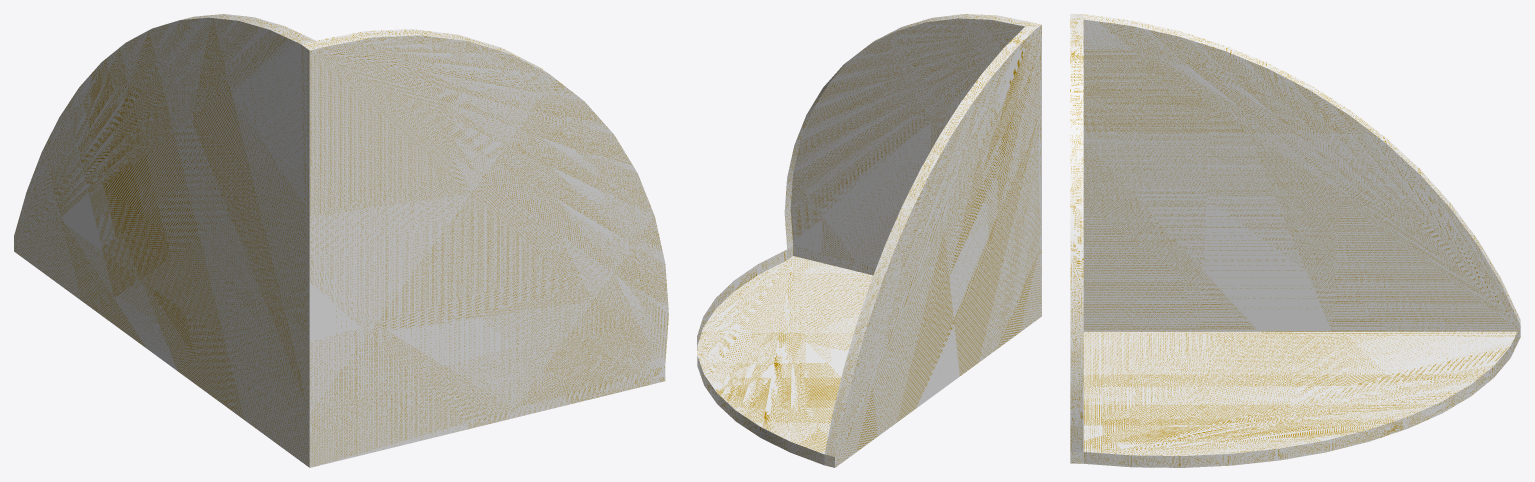
File: original-31.obj
3 renders of one model, left to right at view 1: azimuth 30°, elevation 25°; view 2: azimuth 150°, elevation 25°; view 3: azimuth 270°, elevation 25°, orthographic. The views are drawn at different scales.
Parts seen in each view (by area): view 1: mesh33/mesh33-geometry/material_9/component_0#mesh33-geometry; view 2: mesh33/mesh33-geometry/material_9/component_0#mesh33-geometry; view 3: mesh33/mesh33-geometry/material_9/component_0#mesh33-geometry.
Part boxes in pixels (x1,y1,x2,y2): mesh33/mesh33-geometry/material_9/component_0#mesh33-geometry: (14,14,668,467); mesh33/mesh33-geometry/material_9/component_0#mesh33-geometry: (697,14,1041,467); mesh33/mesh33-geometry/material_9/component_0#mesh33-geometry: (1070,14,1520,467).
Bounding box in the file's own units: 0.1185 × 0.1288 × 0.1655.
